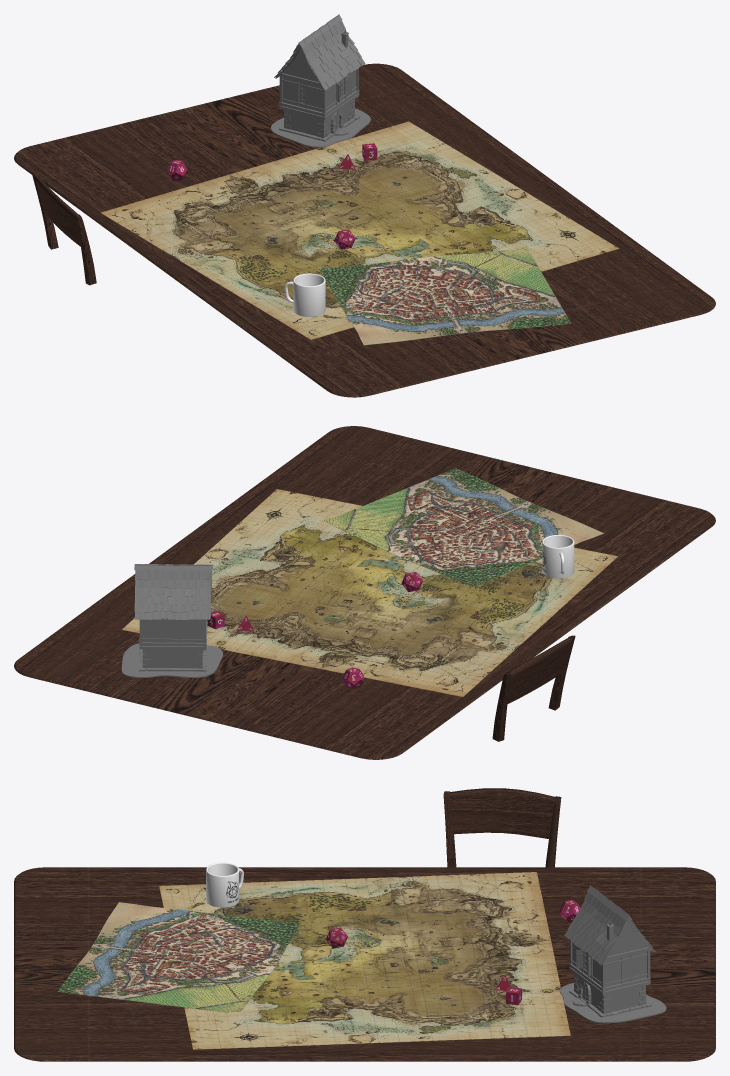
File: environment.glb
3 views of the same model, one above another, from view 1: azimuth 30°, elevation 25°; view 2: azimuth 150°, elevation 25°; view 3: azimuth 270°, elevation 25° (orthographic). The views are drawn at different scales.
Visible parts, largest first — view 1: table, terrain_map, city_map, Box095, chair1, mug; view 2: table, terrain_map, city_map, Box095, chair1, mug; view 3: table, terrain_map, city_map, Box095, chair1, mug.
Boxes of the visible parts, x1=… form: table: x1=14, y1=63, x2=715, y2=397; terrain_map: x1=100, y1=121, x2=619, y2=339; city_map: x1=319, y1=246, x2=571, y2=345; Box095: x1=271, y1=14, x2=370, y2=147; chair1: x1=31, y1=173, x2=96, y2=285; mug: x1=284, y1=273, x2=325, y2=316; table: x1=14, y1=426, x2=715, y2=759; terrain_map: x1=122, y1=489, x2=617, y2=696; city_map: x1=324, y1=468, x2=603, y2=585; Box095: x1=121, y1=564, x2=223, y2=677; chair1: x1=492, y1=635, x2=575, y2=741; mug: x1=542, y1=535, x2=574, y2=578; table: x1=14, y1=867, x2=715, y2=1061; terrain_map: x1=159, y1=872, x2=570, y2=1049; city_map: x1=58, y1=902, x2=300, y2=1012; Box095: x1=559, y1=885, x2=666, y2=1023; chair1: x1=443, y1=788, x2=561, y2=867; mug: x1=206, y1=862, x2=243, y2=907.
Size of the model in its own units: 18.14 by 4.93 by 24.2.
Materials: 6 (5 with a texture image).
